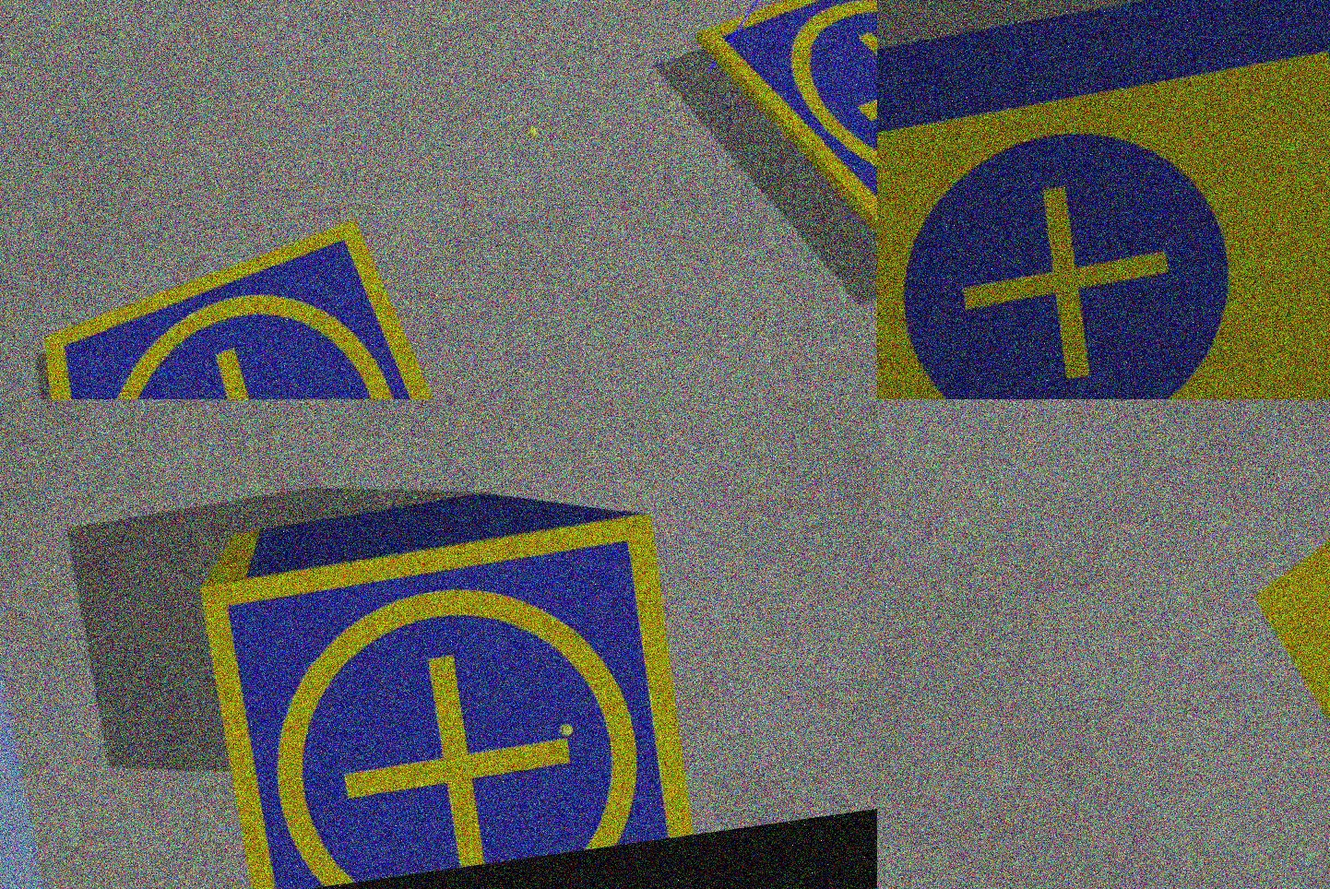large_base: (877, 1, 1330, 400)
small_base: (196, 510, 702, 889), (29, 210, 463, 400), (686, 1, 877, 304)
